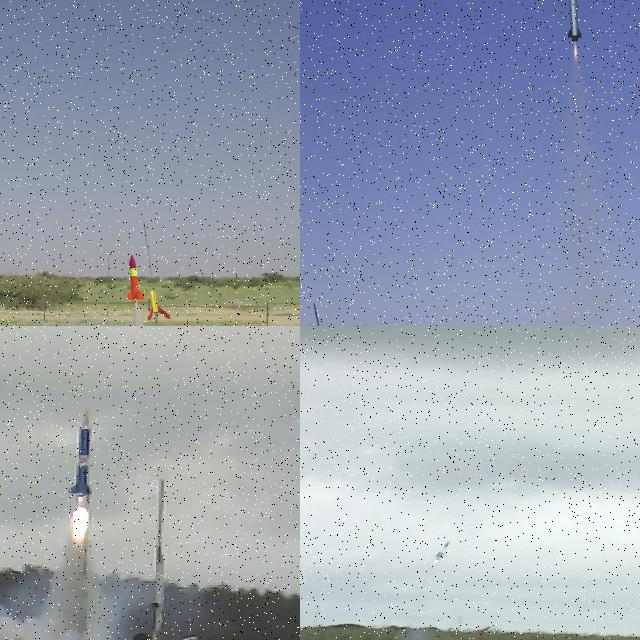Rocket: (66, 408, 95, 497), (126, 255, 146, 301), (564, 0, 584, 42), (147, 290, 172, 321), (433, 540, 452, 560)
